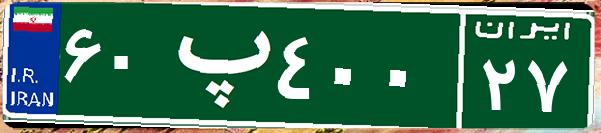0: (385, 28, 445, 110), (330, 28, 385, 110), (110, 28, 158, 105)
2: (475, 38, 525, 113)
4: (273, 28, 330, 110)
6: (57, 26, 110, 107)
7: (525, 38, 570, 115)
پ: (158, 15, 273, 115)
